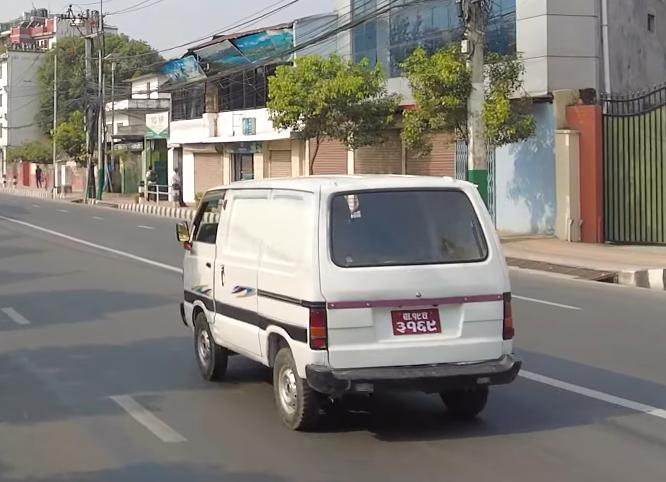van: (165, 163, 523, 444)
